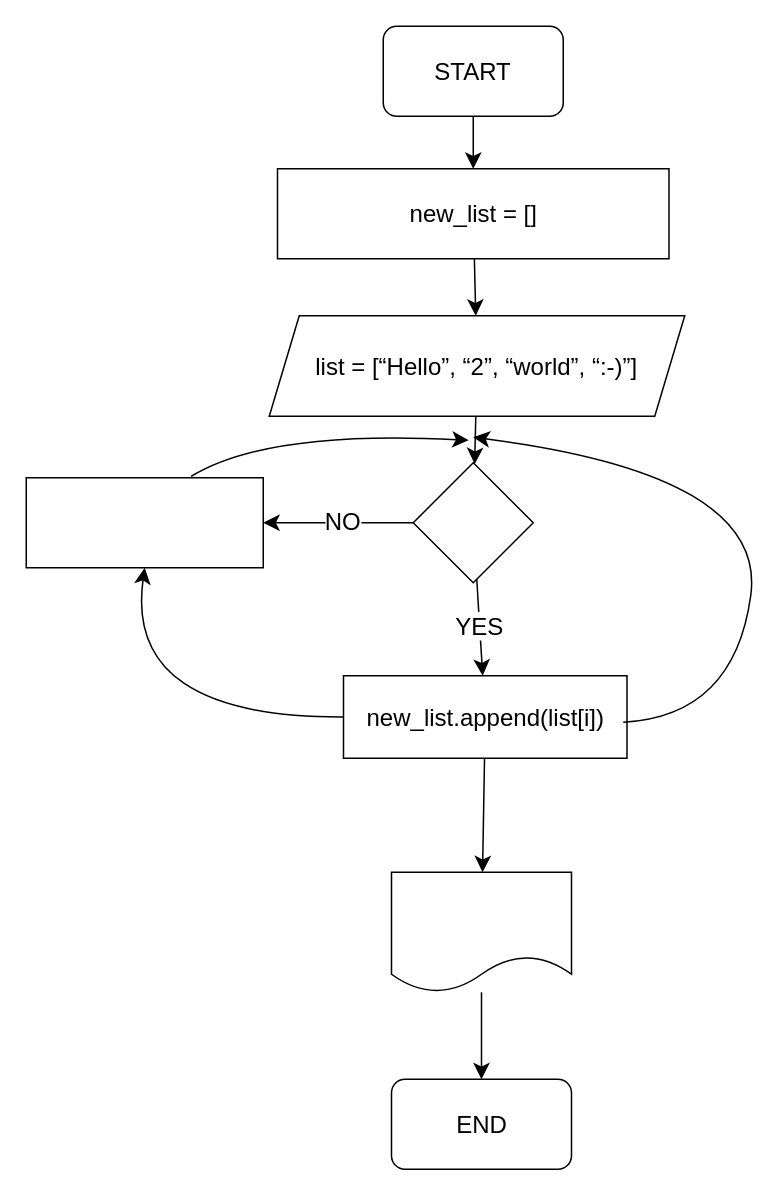
The diagram is 779 pixels wide and 1196 high, and some of its shapes have lost their labels. Here are the shapes that lost their labels. From the top down, the box of each, then its label:
(25, 476, 263, 568): i = i + 1
(412, 461, 533, 583): list[i] <= 3
(390, 871, 572, 992): print(new_list)
